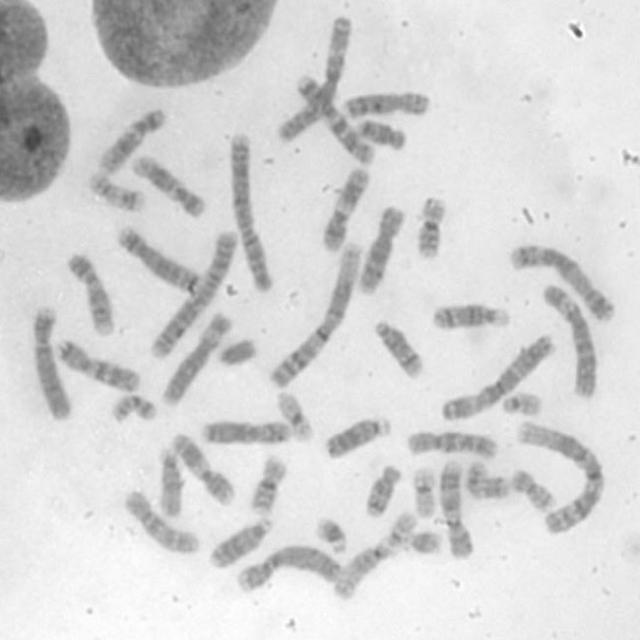A1: (264, 240, 364, 390), (513, 417, 607, 537)
A2: (146, 226, 238, 362), (227, 128, 274, 294)
A3: (437, 328, 558, 423), (273, 11, 354, 144)
B4: (232, 538, 344, 596), (28, 301, 75, 422)
B5: (505, 239, 616, 325), (114, 224, 203, 296)
C10: (118, 484, 204, 556), (403, 426, 499, 461)
C11: (168, 429, 238, 507), (317, 162, 372, 255)
C12: (128, 150, 209, 221), (94, 104, 168, 176)
C6: (156, 308, 234, 408), (538, 279, 600, 401)
C7: (294, 73, 377, 166), (53, 334, 142, 394)
C8: (356, 202, 408, 296), (340, 86, 433, 120)
C9: (63, 248, 116, 336), (436, 454, 476, 561)
D13: (204, 514, 276, 572), (322, 412, 392, 460)
D14: (370, 315, 426, 380), (428, 298, 513, 332)
D15: (330, 536, 393, 602), (155, 444, 184, 518)
E16: (246, 451, 290, 516), (413, 192, 448, 261)
E17: (85, 168, 146, 213), (462, 457, 510, 501)
E18: (360, 460, 402, 518), (352, 114, 408, 152)
F19: (273, 388, 314, 444), (409, 462, 437, 520)
F20: (507, 465, 556, 513), (109, 392, 158, 424)
G21: (311, 512, 350, 557), (401, 526, 443, 558)
G22: (383, 508, 417, 554), (498, 388, 544, 418)
X: (198, 416, 292, 446)
Y: (214, 333, 258, 368)
